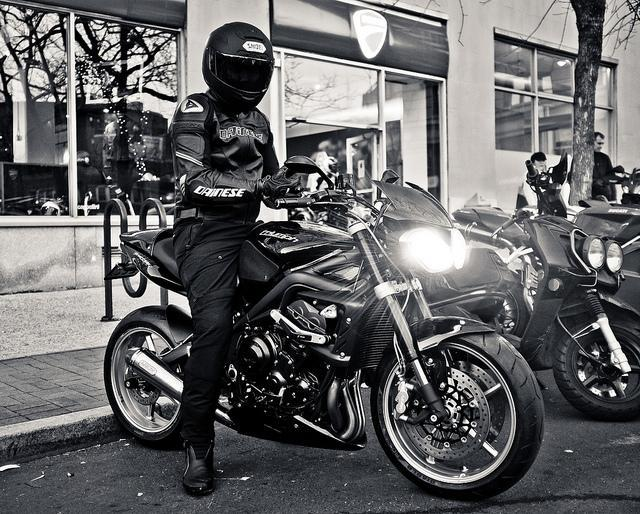motorcycle: (102, 158, 546, 503), (430, 211, 640, 420)
